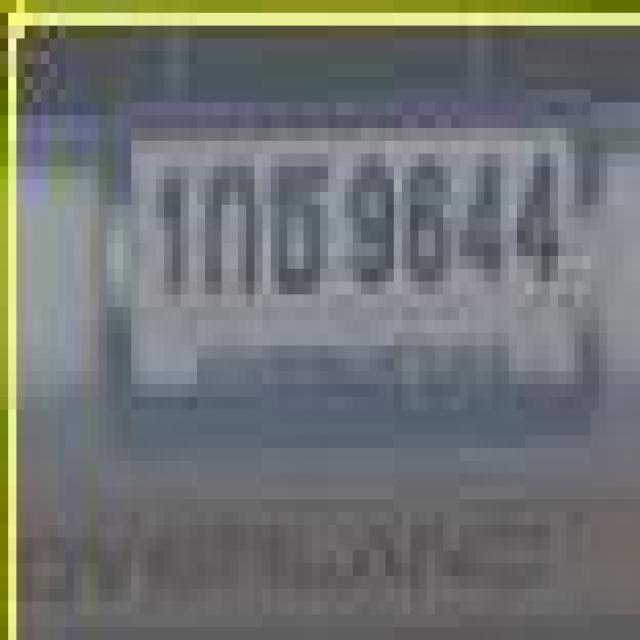license_plate: (113, 95, 606, 438)
